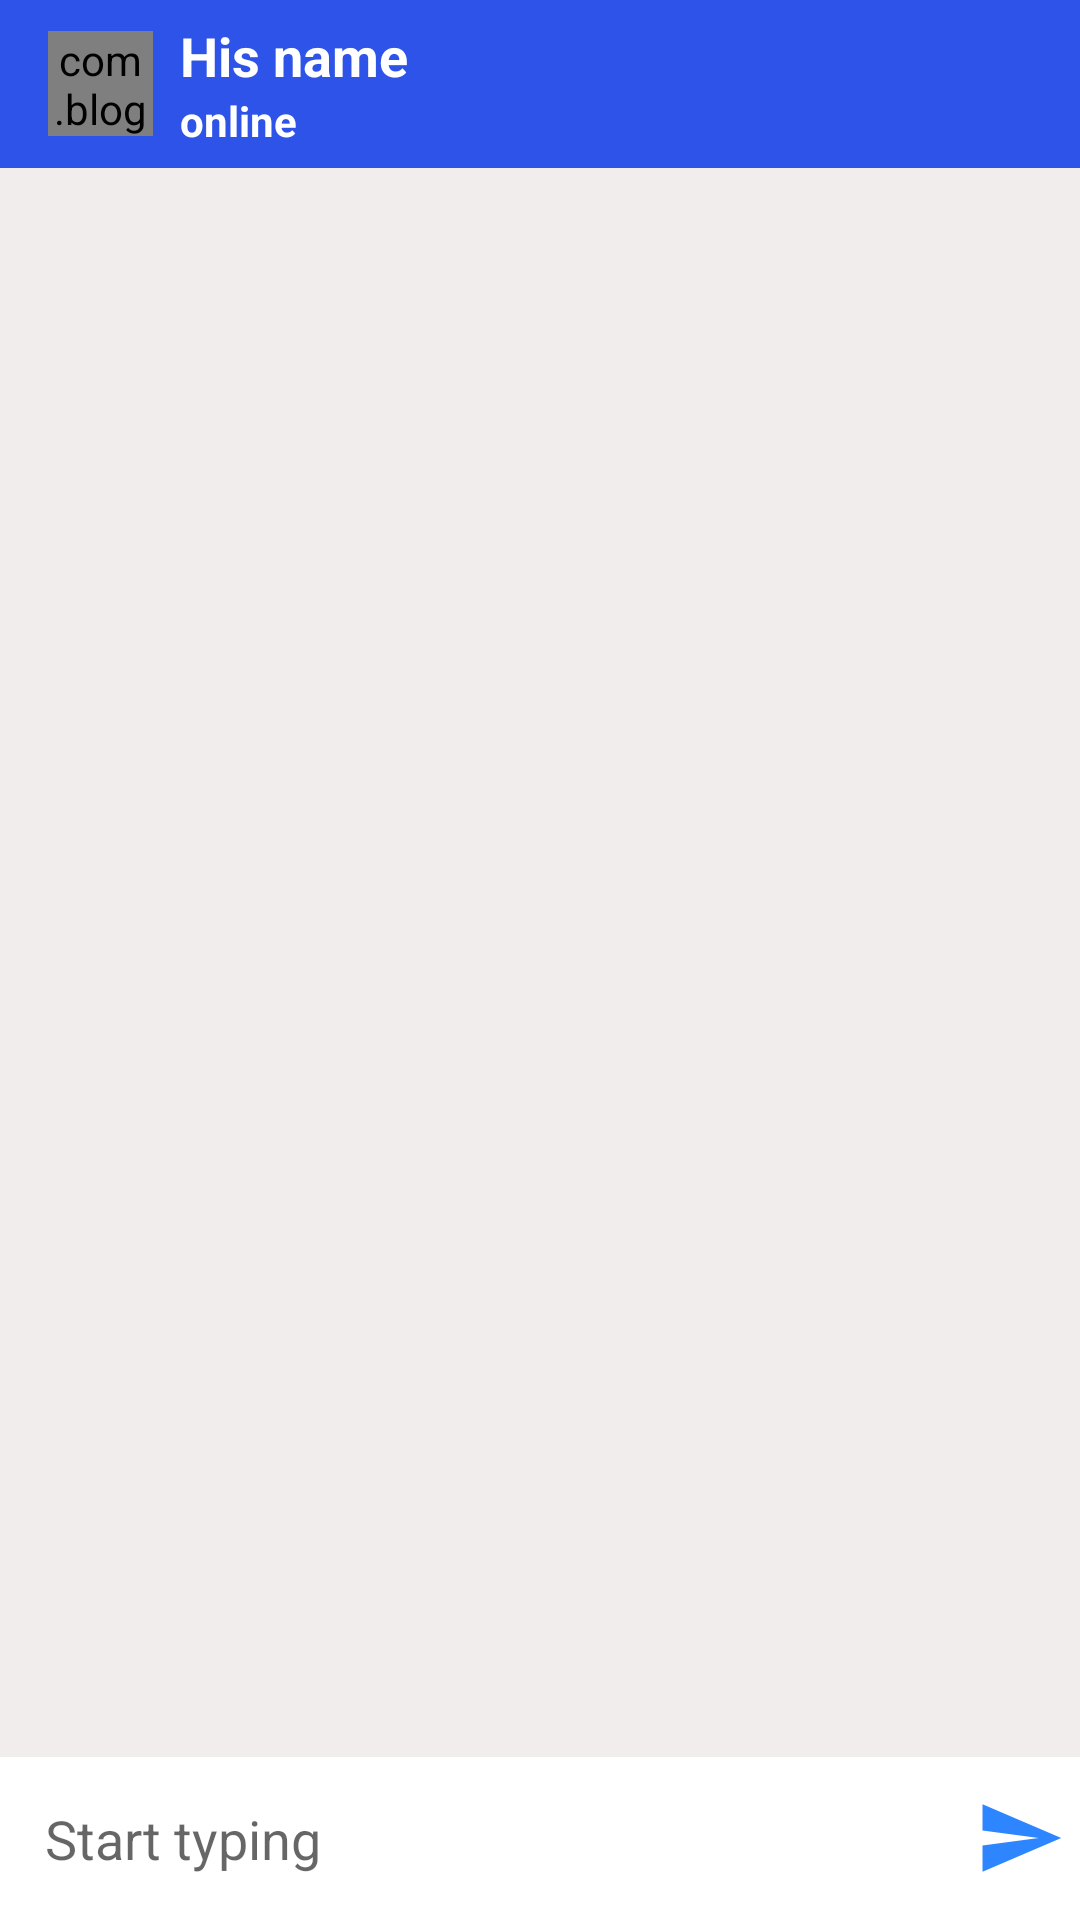

Named icons in this screenshot (1080×1920) and their centers, point (x, y):
send: point (1021, 1838)
